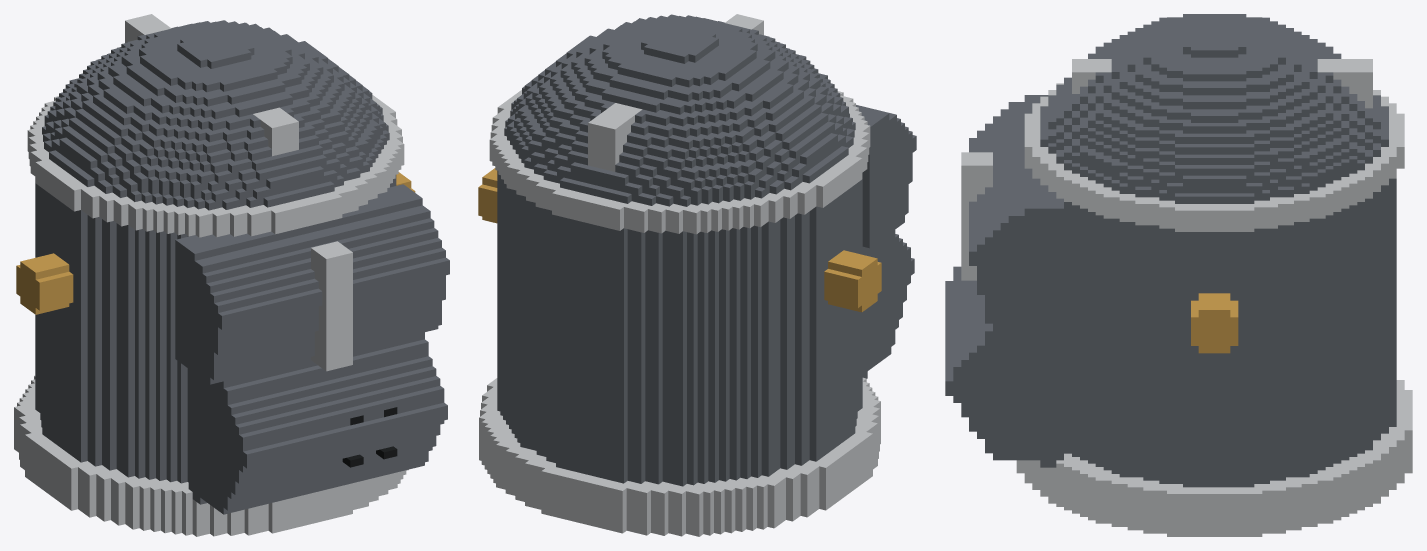
Rendered from helmet_plate_armet.glb.
The picture shows the model from 3 angles, left to right: view 1: azimuth 30°, elevation 25°; view 2: azimuth 150°, elevation 25°; view 3: azimuth 270°, elevation 25°; orthographic projection. The views are drawn at different scales.
Parts seen in each view (by area): view 1: helmet_plate_armet:compound; view 2: helmet_plate_armet:compound; view 3: helmet_plate_armet:compound.
Boxes of the visible parts, bbox=[...] form: helmet_plate_armet:compound: bbox=[14, 14, 449, 536]; helmet_plate_armet:compound: bbox=[478, 14, 916, 536]; helmet_plate_armet:compound: bbox=[945, 14, 1412, 536].
Size of the model in its own units: 0.336 by 0.348 by 0.354.
